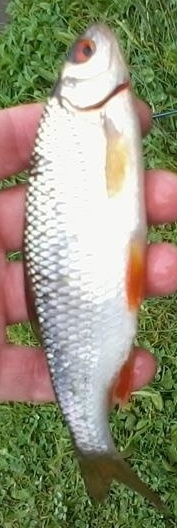Rutilus rutilus: (20, 20, 157, 511)
